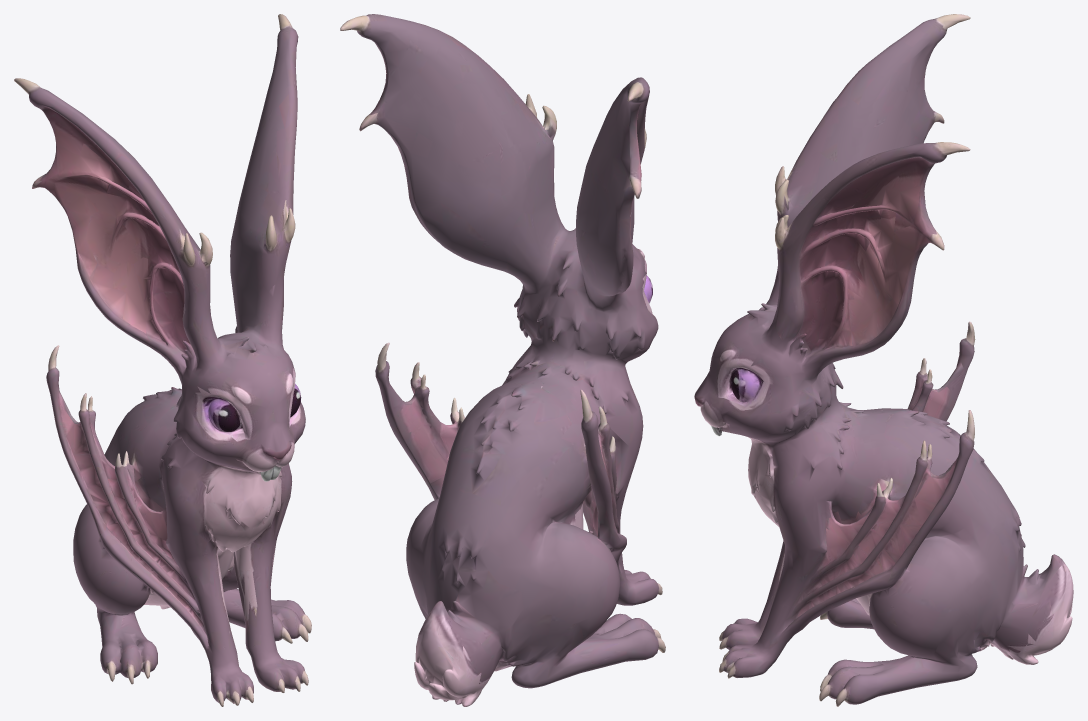
File: zapple.glb
The picture shows the model from 3 angles, left to right: view 1: azimuth 30°, elevation 25°; view 2: azimuth 150°, elevation 25°; view 3: azimuth 270°, elevation 25°; orthographic projection. The views are drawn at different scales.
Parts seen in each view (by area): view 1: Mesh_0; view 2: Mesh_0; view 3: Mesh_0.
Boxes of the visible parts, x1=… form: Mesh_0: x1=14, y1=14, x2=311, y2=706; Mesh_0: x1=340, y1=14, x2=665, y2=706; Mesh_0: x1=694, y1=14, x2=1073, y2=706.
Size of the model in its own units: 0.9383 by 1.9 by 1.13.
1 material, 1 textured.
